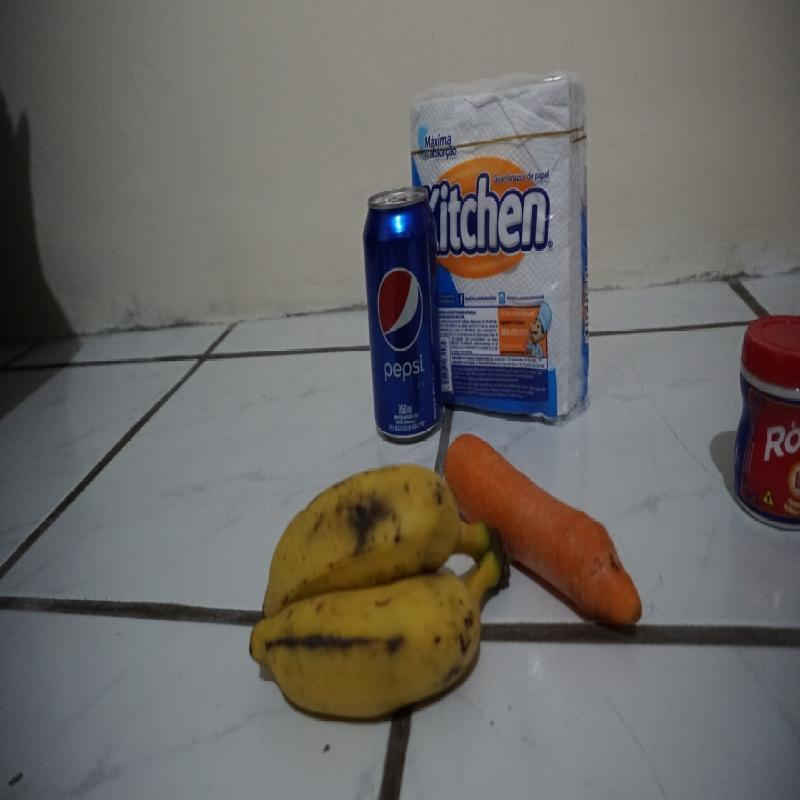Banana: (246, 461, 499, 733)
Carrot: (505, 445, 644, 663)
Napkin: (452, 82, 593, 423)
Soda can: (361, 187, 444, 434)
Yeast: (736, 307, 798, 534)
